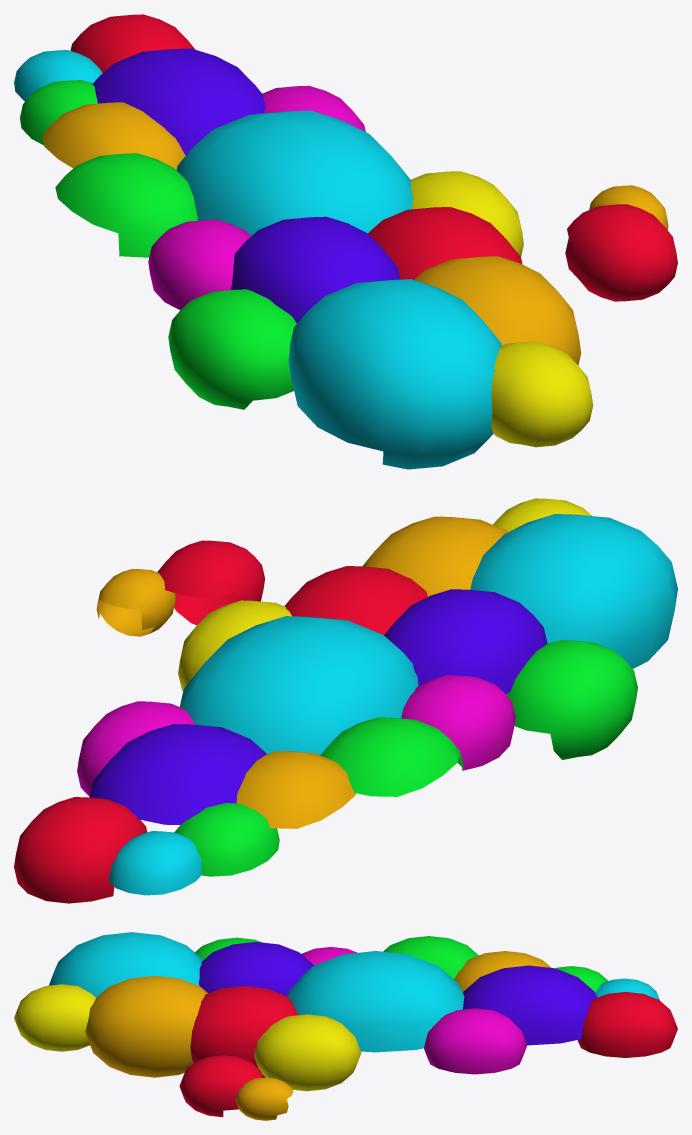
Rendered from CLOUD_SMALL.fbx.
The picture shows the model from 3 angles, top to bottom: view 1: azimuth 30°, elevation 25°; view 2: azimuth 150°, elevation 25°; view 3: azimuth 270°, elevation 25°; orthographic projection. The views are drawn at different scales.
Parts seen in each view (by area): view 1: CLOUD.011; view 2: CLOUD.011; view 3: CLOUD.011.
Part boxes in pixels (bbox=[...]): CLOUD.011: bbox=[14, 14, 677, 469]; CLOUD.011: bbox=[14, 498, 677, 903]; CLOUD.011: bbox=[14, 932, 677, 1120].
Size of the model in its own units: 577 by 171 by 1011.
